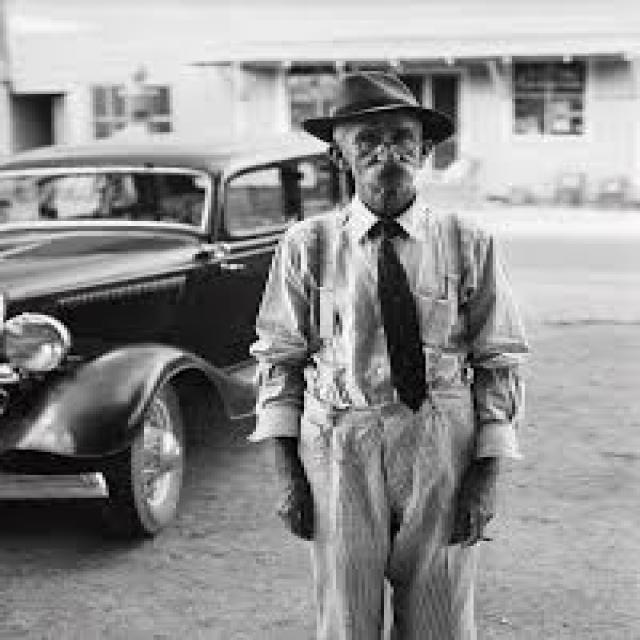hat: (307, 71, 451, 198)
